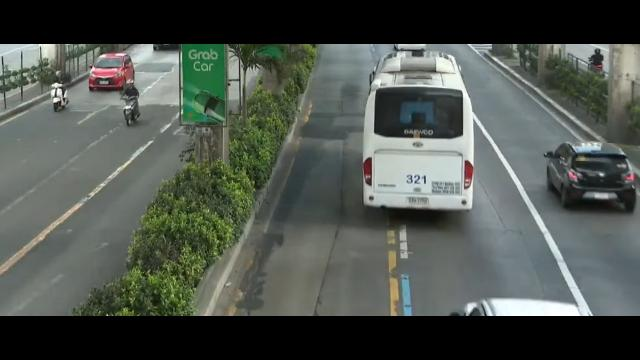bus: (363, 52, 474, 216)
car: (544, 141, 640, 210), (86, 52, 136, 92)
motorcycle: (121, 78, 140, 125), (51, 73, 68, 112)
